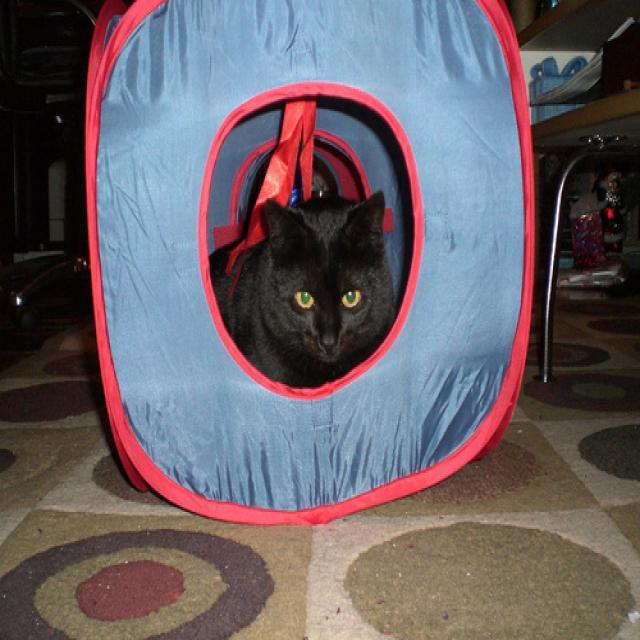Bombay: (254, 188, 396, 374)
